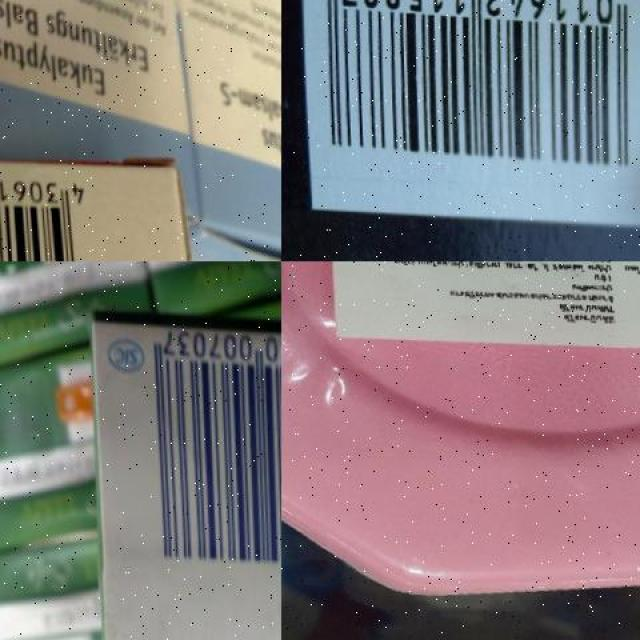Barcode: (298, 0, 640, 226), (143, 322, 281, 582), (0, 160, 92, 261)
